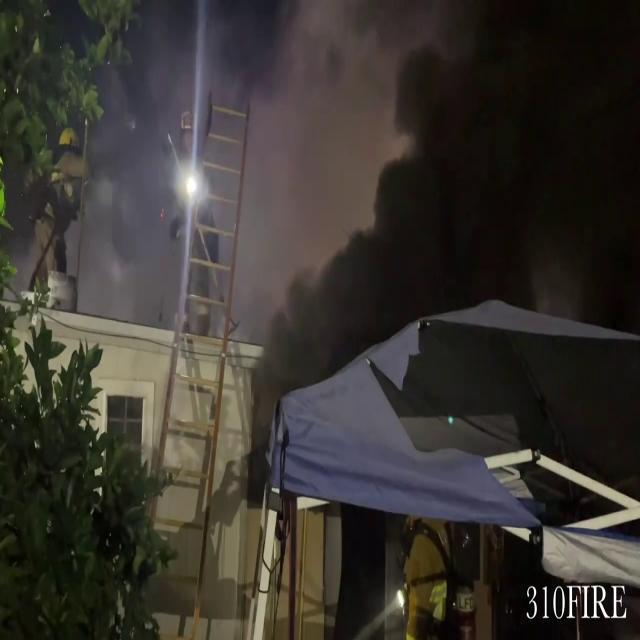Smoke: (64, 0, 405, 331)
